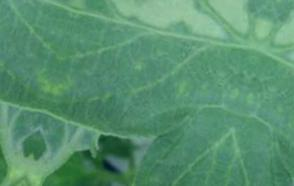Tomato leaf bacterial spot: (19, 0, 278, 186)
